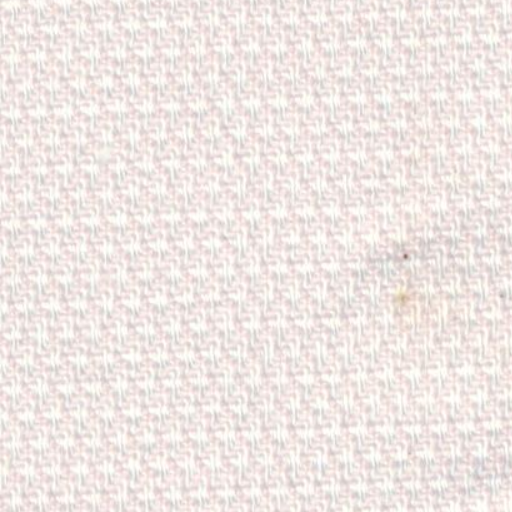WuZi: (358, 218, 477, 324)
